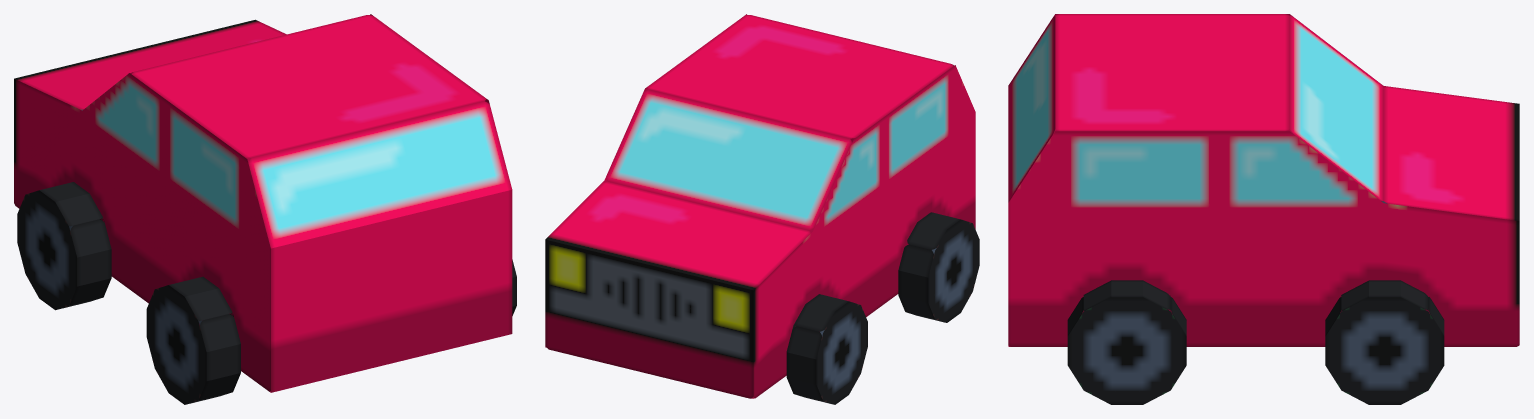
File: car.fbx
3 renders of one model, left to right at view 1: azimuth 30°, elevation 25°; view 2: azimuth 150°, elevation 25°; view 3: azimuth 270°, elevation 25°, orthographic. The views are drawn at different scales.
Visible parts, largest first — view 1: mesh, cylinder_1, cylinder; view 2: mesh, cylinder, cylinder_1; view 3: mesh, cylinder_3, cylinder_2.
Boxes of the visible parts, bbox=[...] form: mesh: bbox=[14, 14, 512, 392]; cylinder_1: bbox=[146, 276, 240, 404]; cylinder: bbox=[17, 182, 111, 310]; mesh: bbox=[545, 14, 975, 398]; cylinder: bbox=[786, 294, 867, 404]; cylinder_1: bbox=[898, 212, 979, 322]; mesh: bbox=[1008, 14, 1519, 346]; cylinder_3: bbox=[1067, 280, 1186, 404]; cylinder_2: bbox=[1325, 280, 1444, 404].
Size of the model in its own units: 56.25 by 44.69 by 80.62.
1 material, 1 textured.
